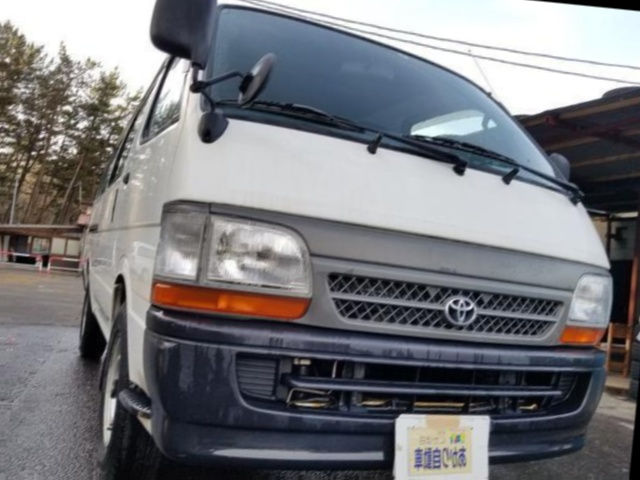van: (41, 0, 640, 480)
